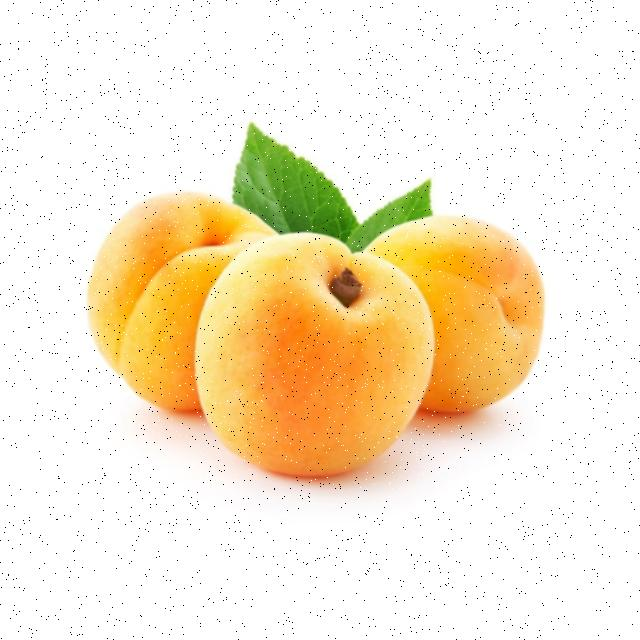kayisi: (241, 238, 410, 442), (383, 219, 544, 396), (93, 196, 220, 364)
yaprak: (230, 130, 344, 225), (375, 175, 423, 232)
